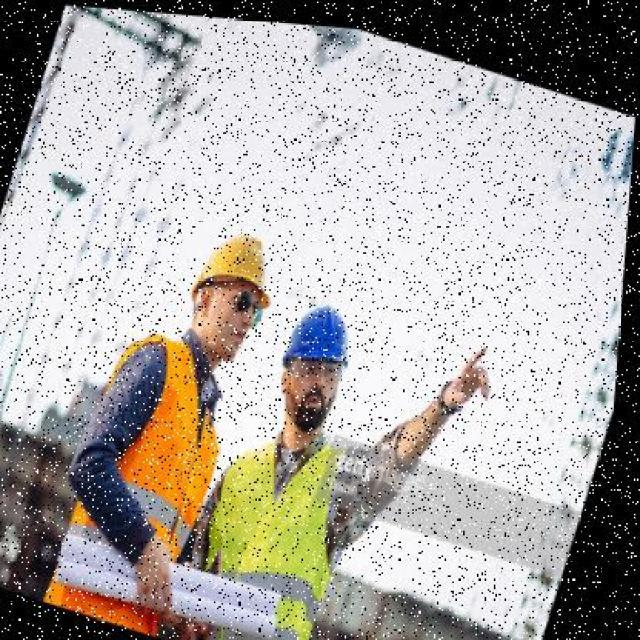helmet: (192, 219, 294, 310), (286, 293, 364, 376)
vest: (49, 314, 265, 638), (185, 411, 369, 639)
